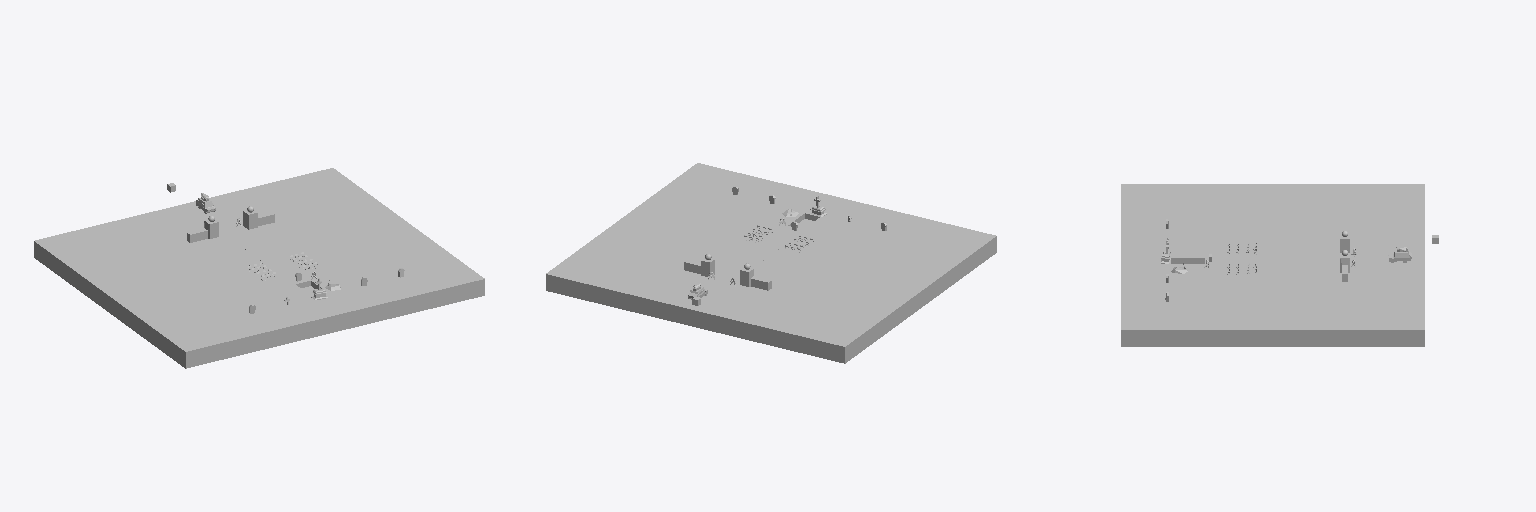
The model's file is LevelOBJ.obj.
3 renders of one model, left to right at view 1: azimuth 30°, elevation 25°; view 2: azimuth 150°, elevation 25°; view 3: azimuth 270°, elevation 25°, orthographic.
Visible parts, largest first — view 1: Level 1, Carpet; view 2: Level 1, Carpet; view 3: Level 1, Carpet.
Boxes of the visible parts, x1=… form: Level 1: x1=34, y1=168, x2=484, y2=368; Carpet: x1=222, y1=228, x2=303, y2=279; Level 1: x1=546, y1=163, x2=996, y2=363; Carpet: x1=716, y1=231, x2=797, y2=281; Level 1: x1=1121, y1=184, x2=1424, y2=346; Carpet: x1=1219, y1=257, x2=1339, y2=265.
Bounding box in the file's own units: 52.3 × 6.4 × 47.98.